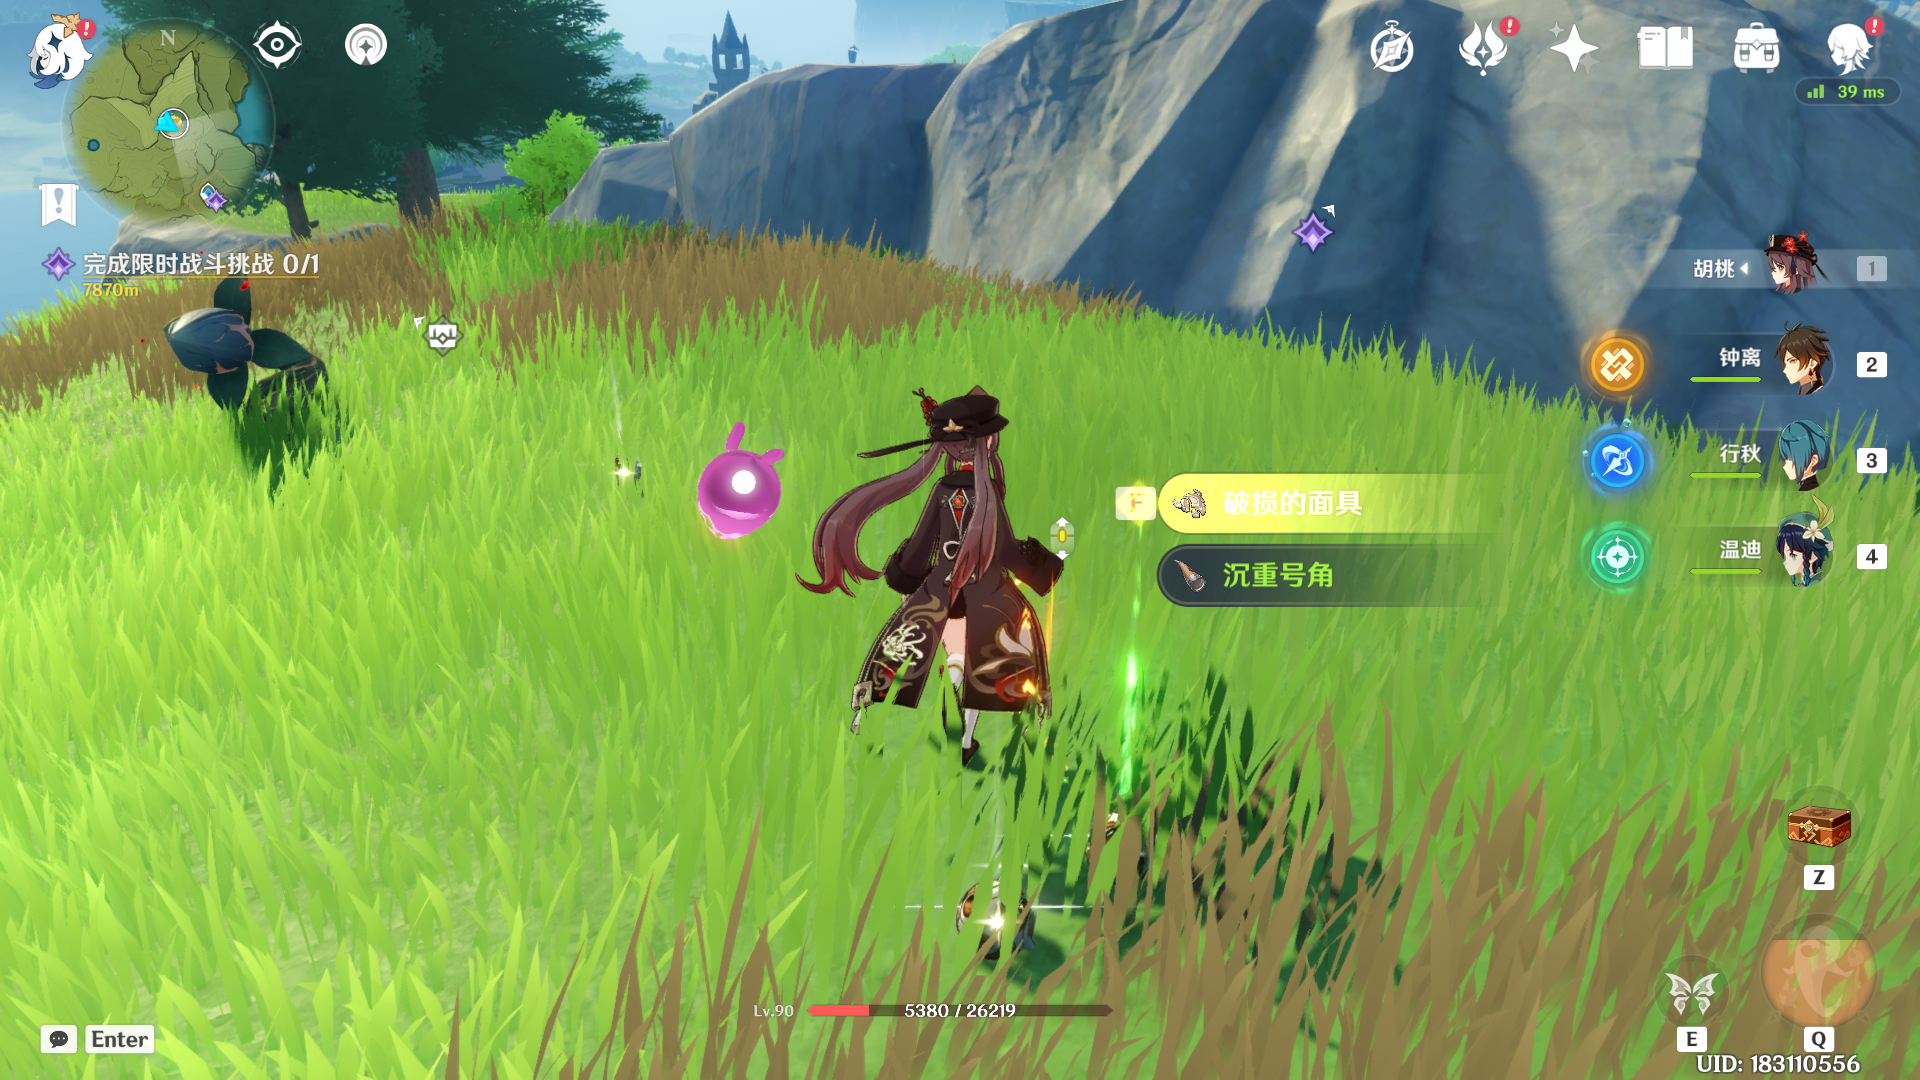character: (798, 345, 1113, 909)
